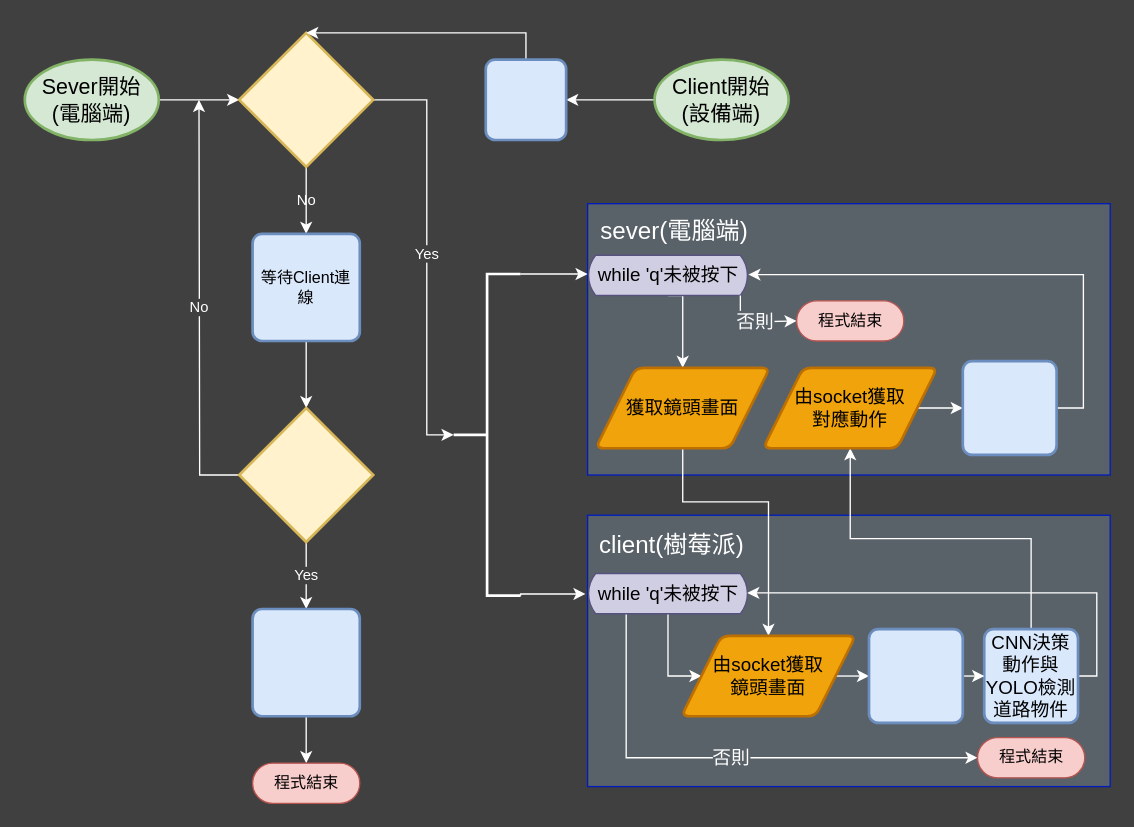
Some shapes in this 1134 by 827 pixel diagram are drawn without their labels. Each missing label, with the centre of its shape:
"if Socket連線?" goes at pixel 305 99.
"if timeout?" goes at pixel 305 474.
"丟出程式錯誤 Timeout error" goes at pixel 305 662.
"嘗試與Sever 連線" goes at pixel 525 99.
"影像資料 處理" goes at pixel 915 675.
"由port傳給 Arduino 作相對應動作" goes at pixel 1009 407.
